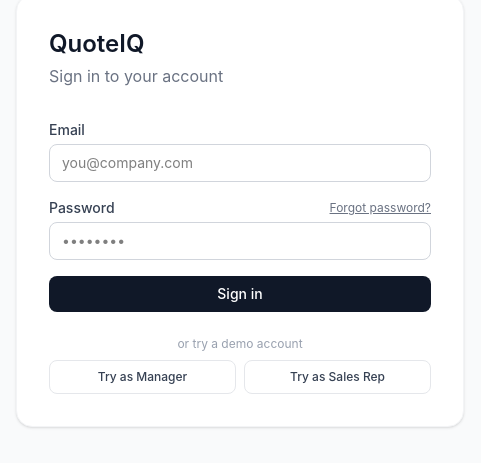
Scenario: LoginPage › shows error message when login fails
Type "wrong@test.com" into the field with placeholder "you@company.com". click: (240, 163)
box: [49,144,431,182]
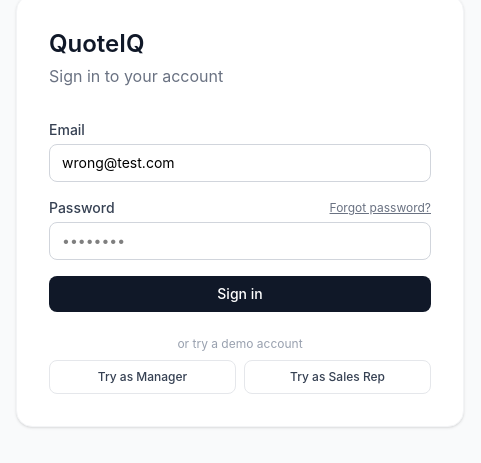
Type "wrongpass" into the password field with placeholder "••••••••". click: (240, 241)
box: [49,222,431,260]
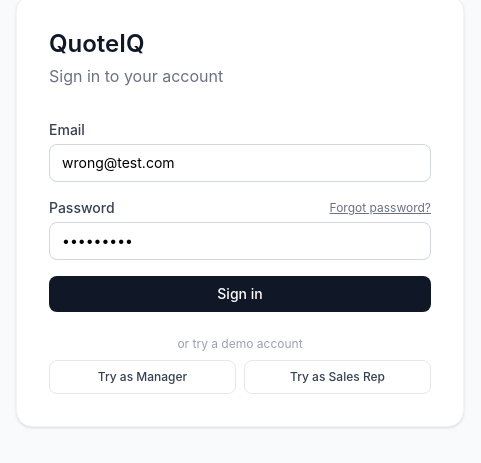
Click the button "Sign in". click: (240, 294)
box: [49,276,431,312]
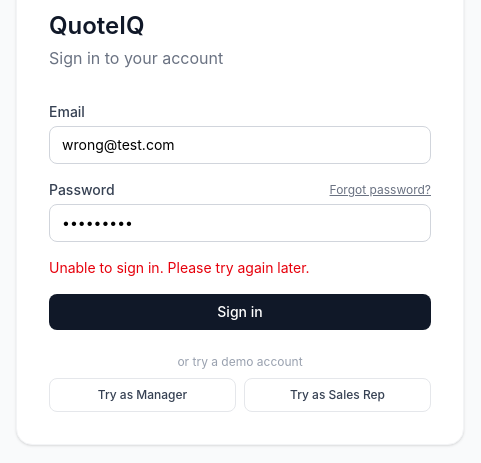
Check: the text "Unable to sign in. Please try again later." is shown, box [49,259,310,276]
